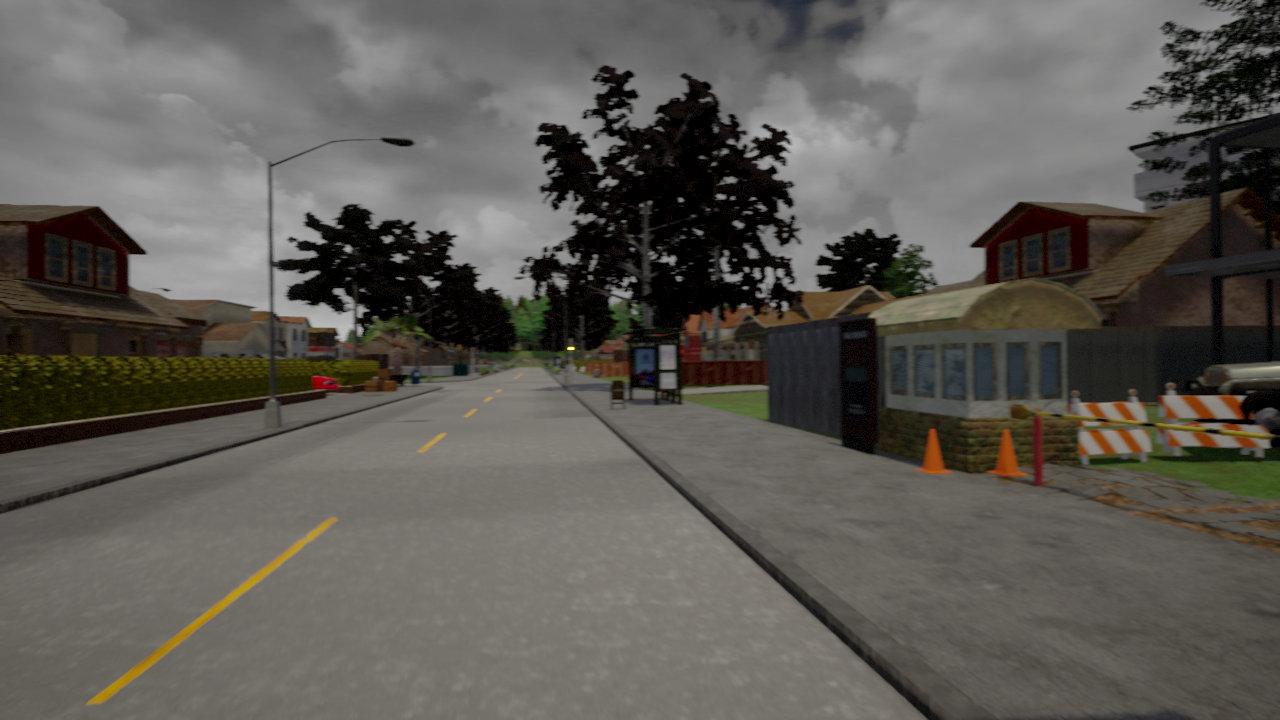yellow: (566, 342, 576, 356)
